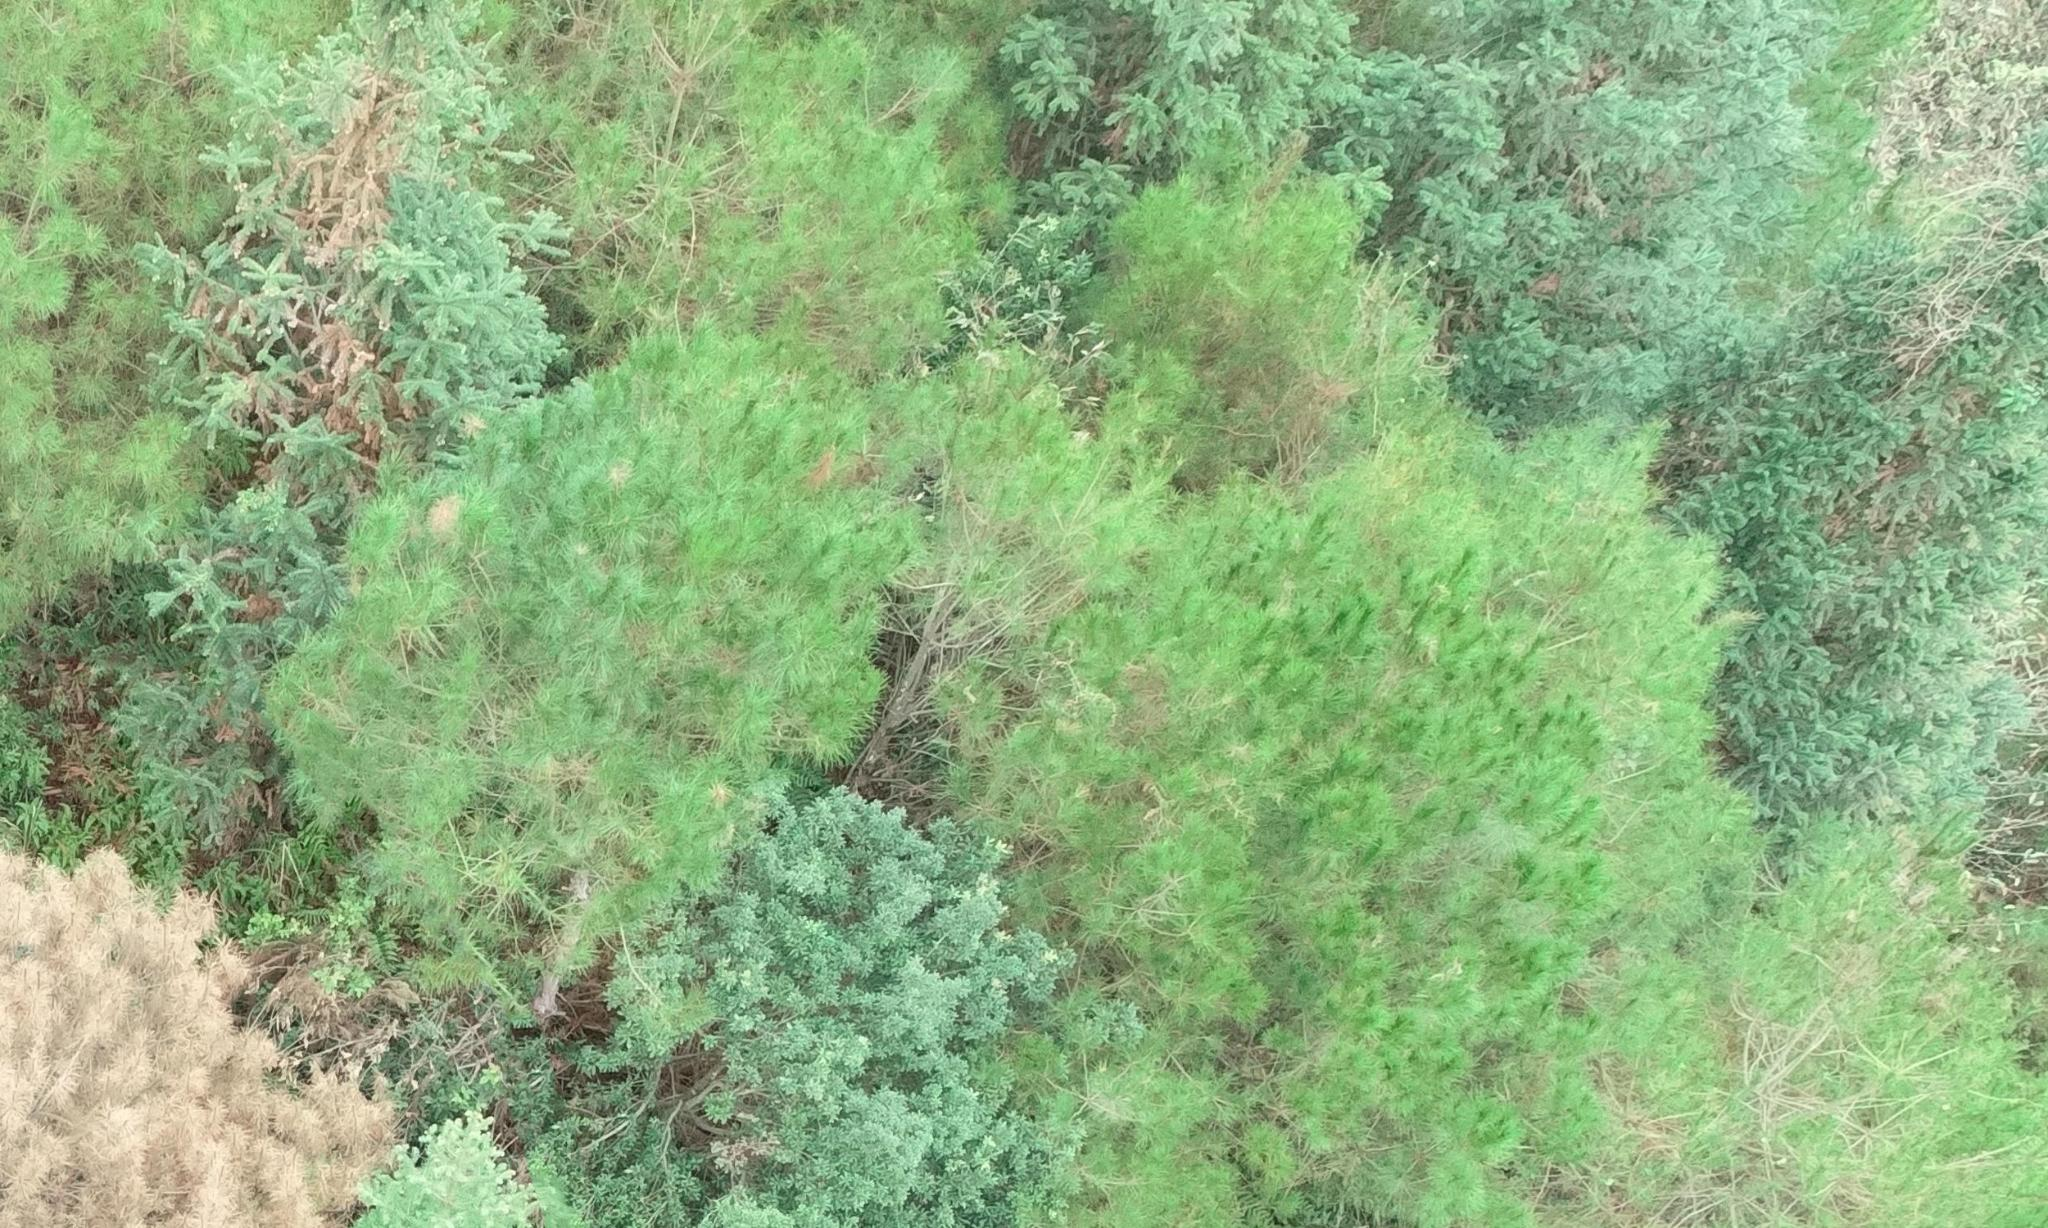heavy: (3, 855, 392, 1228)
light: (156, 0, 554, 452)
